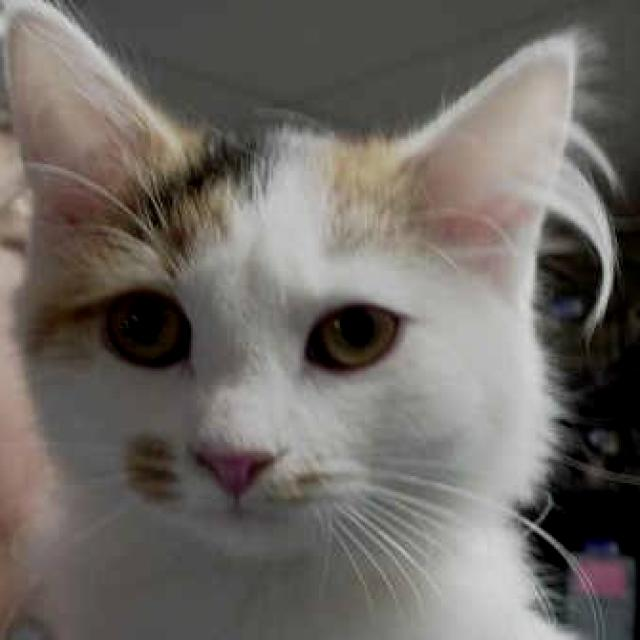Kucing: (14, 22, 632, 592)
